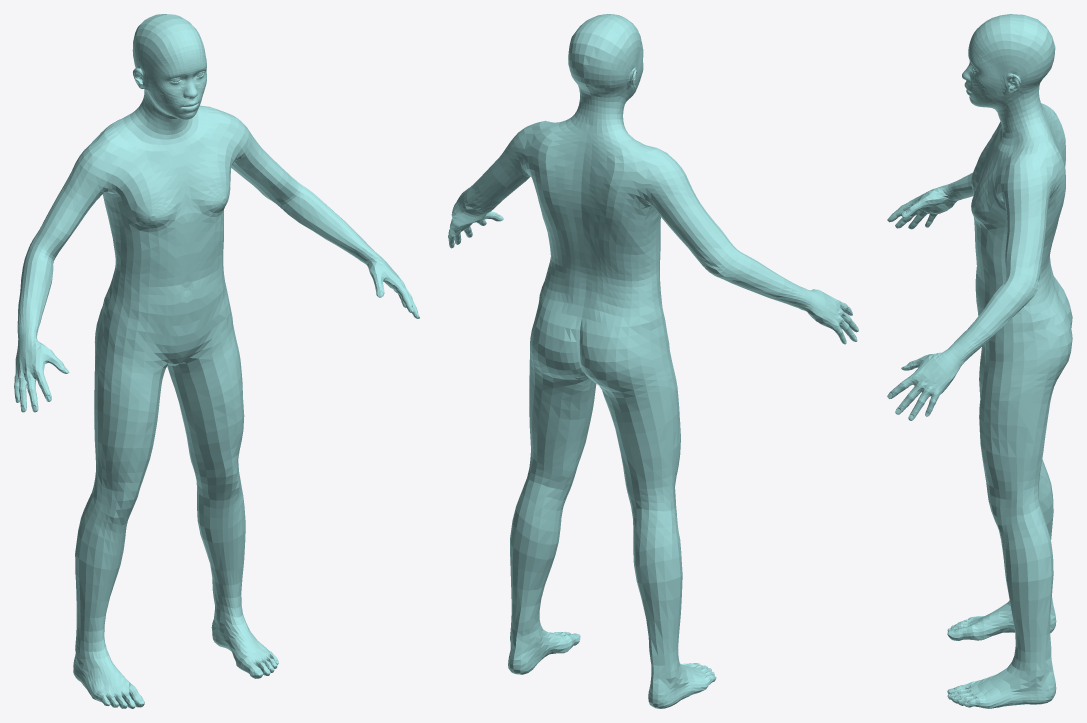
The model's file is generated_twin.glb.
3 renders of one model, left to right at view 1: azimuth 30°, elevation 25°; view 2: azimuth 150°, elevation 25°; view 3: azimuth 270°, elevation 25°, orthographic.
Visible parts, largest first — view 1: world; view 2: world; view 3: world.
Boxes of the visible parts, x1,y1,x2,y2 form: world: (14, 14, 419, 708); world: (448, 14, 858, 708); world: (887, 14, 1072, 708).
Size of the model in its own units: 1.03 by 1.63 by 0.4195.
